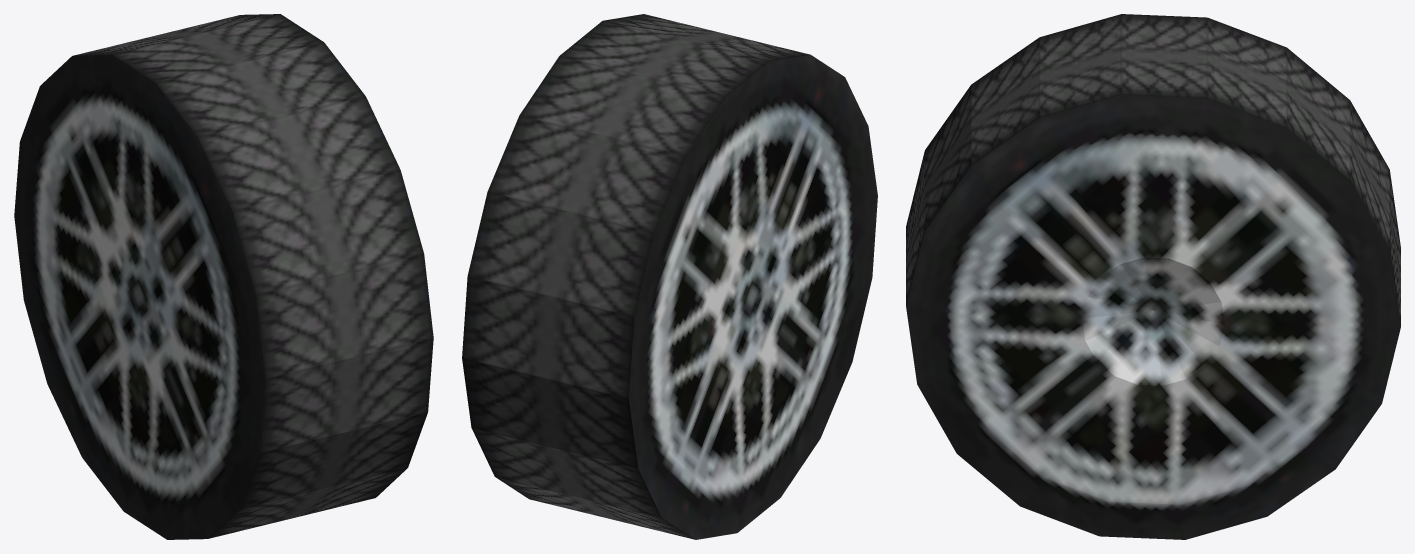
The model's file is policeCarWheel.obj.
The picture shows the model from 3 angles, left to right: view 1: azimuth 30°, elevation 25°; view 2: azimuth 150°, elevation 25°; view 3: azimuth 270°, elevation 25°; orthographic projection.
Visible parts, largest first — view 1: policeCarWheel:Mesh; view 2: policeCarWheel:Mesh; view 3: policeCarWheel:Mesh.
Part boxes in pixels (x1=…): policeCarWheel:Mesh: x1=14, y1=14, x2=433, y2=539; policeCarWheel:Mesh: x1=462, y1=14, x2=877, y2=539; policeCarWheel:Mesh: x1=906, y1=14, x2=1400, y2=539.
Bounding box in the file's own units: 0.517 × 1.26 × 1.27.
1 material, 1 textured.
